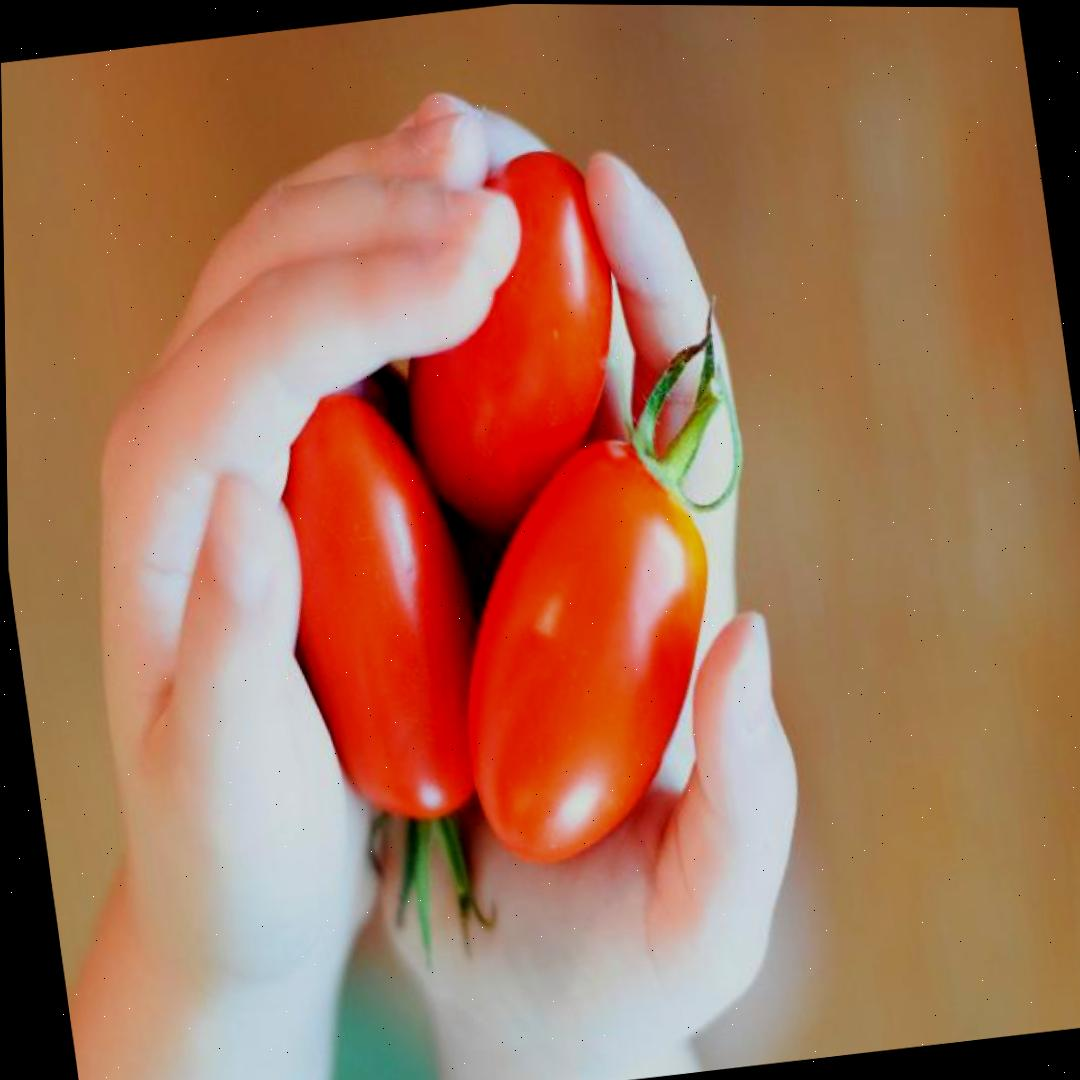matang: (429, 424, 746, 871), (259, 377, 505, 835), (376, 141, 645, 544)
